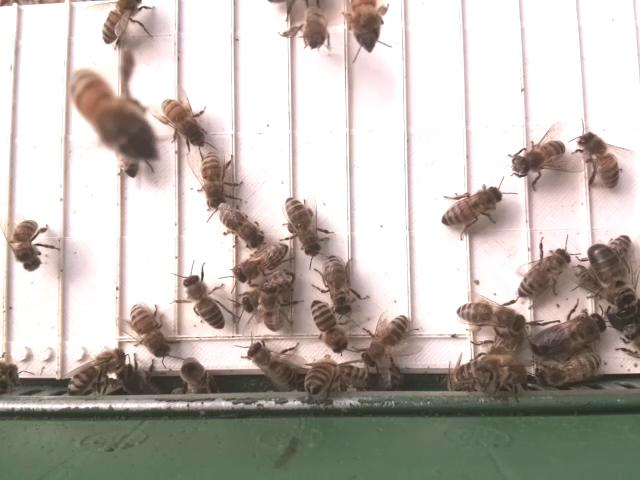Drone: (526, 311, 610, 362), (586, 239, 635, 315)
Worker: (515, 243, 575, 301), (438, 187, 505, 229), (577, 130, 622, 191), (179, 271, 224, 332), (454, 297, 527, 334), (229, 241, 289, 286), (361, 315, 412, 367), (128, 300, 170, 363), (282, 194, 322, 259), (510, 137, 569, 179), (310, 295, 349, 356), (320, 252, 356, 318), (159, 95, 205, 146), (98, 0, 143, 50), (534, 355, 604, 387), (216, 206, 265, 250), (9, 216, 46, 274), (198, 147, 229, 213)
